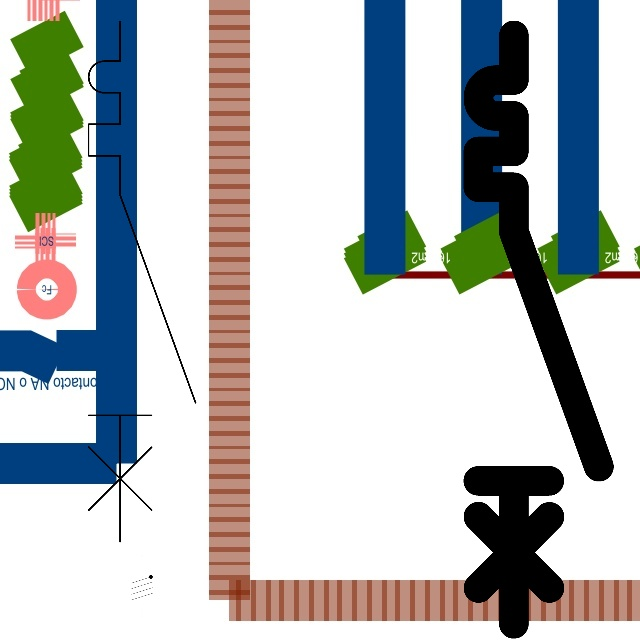interruptor_termomagnetico: (463, 20, 614, 639), (75, 8, 209, 555)
